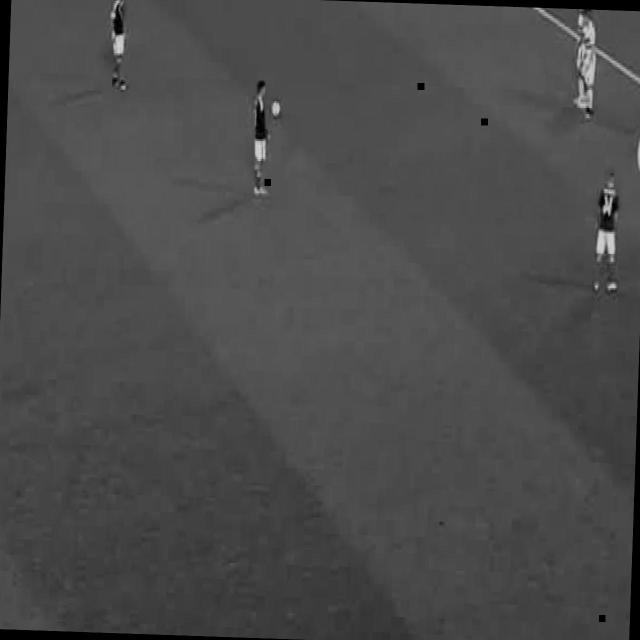ball: (271, 101, 280, 117)
player-white: (593, 166, 621, 294), (250, 80, 271, 196), (106, 0, 132, 90), (579, 13, 598, 117), (571, 8, 589, 104)
